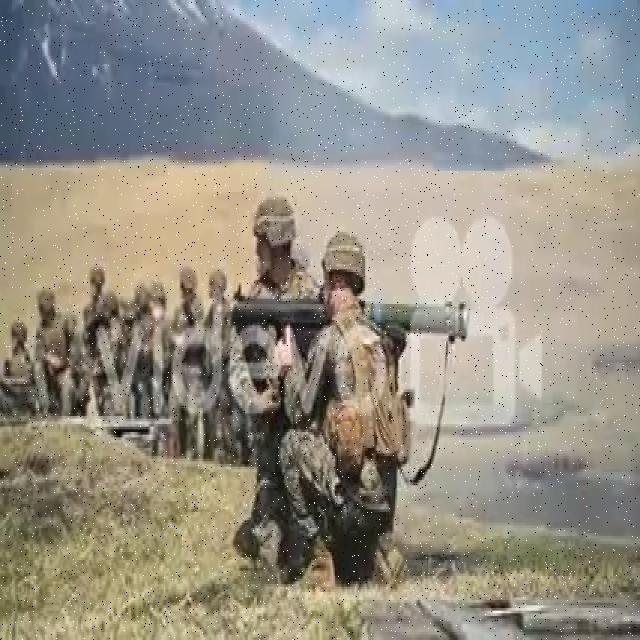bazooka: (229, 284, 473, 350)
